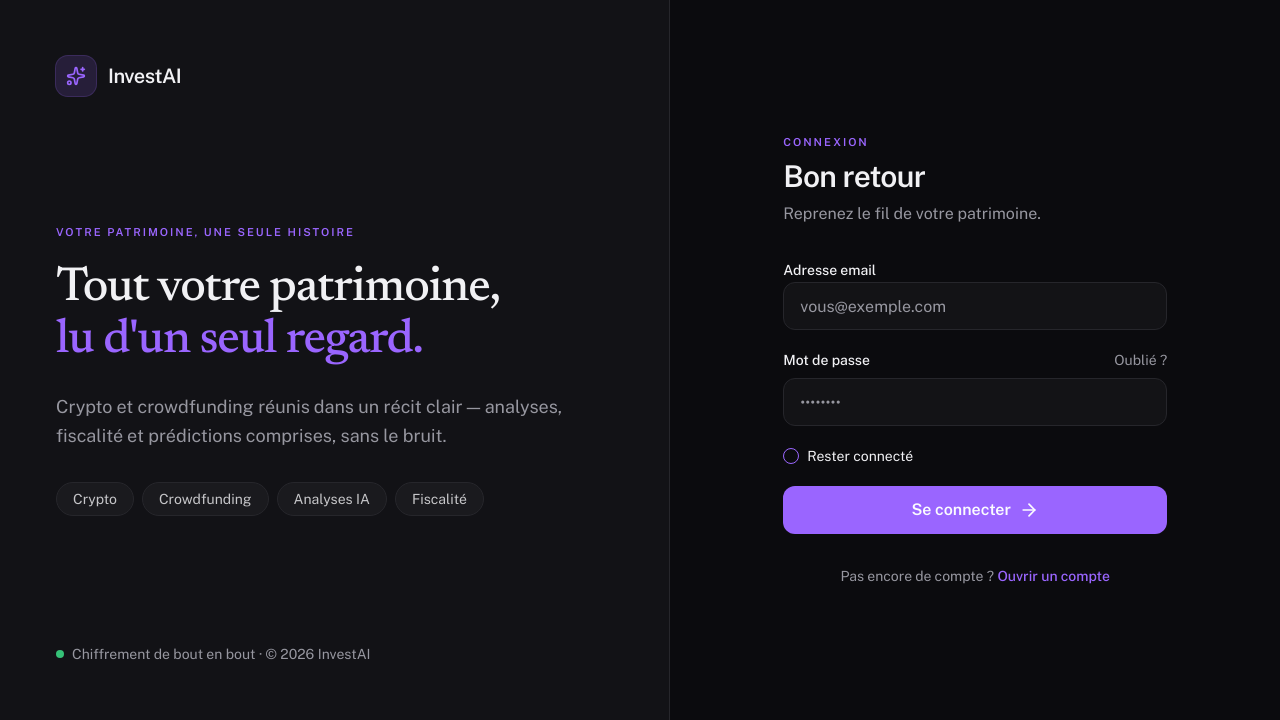
it: identity — défauts corrigés › un mot de passe refusé ne déclenche ni refresh ni déconnexion
Type "jeanne@example.com" into the field with id "email" at {"x": 975, "y": 306}, box x1=783 y1=282 x2=1167 y2=330
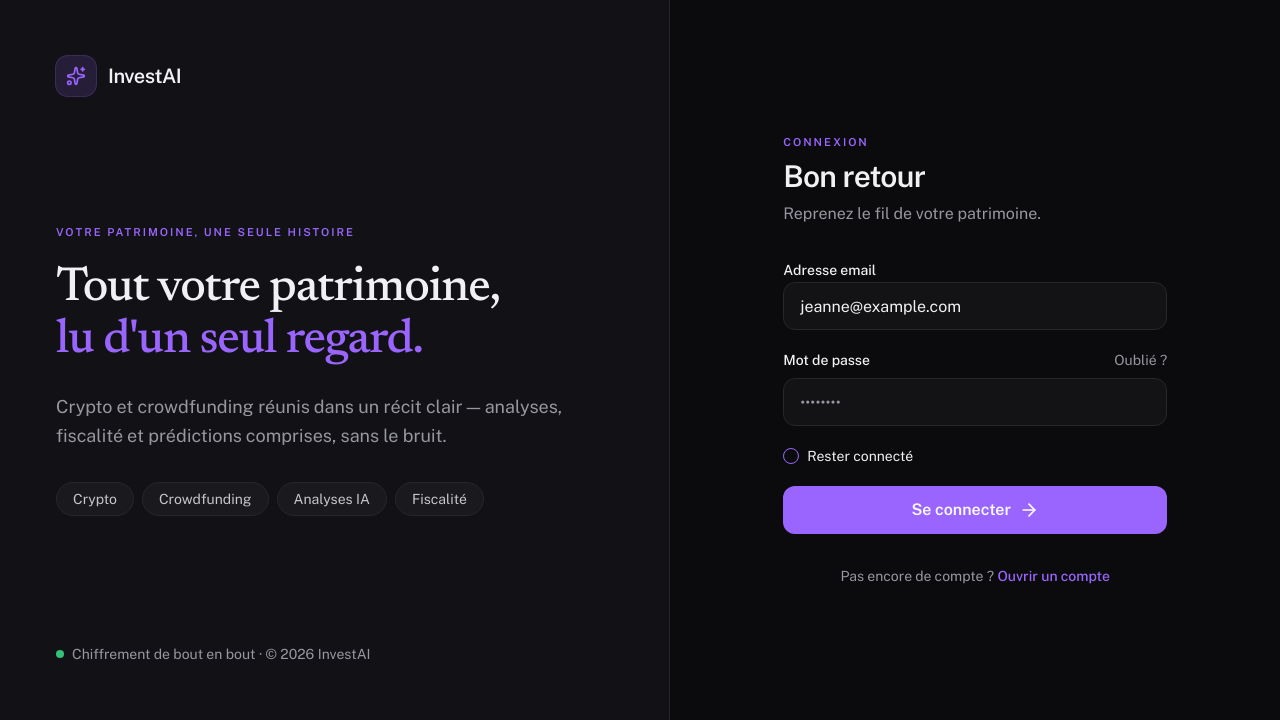
Type "Secret-42xyz" into the password field labelled "Mot de passe" at {"x": 975, "y": 402}, box x1=783 y1=378 x2=1167 y2=426
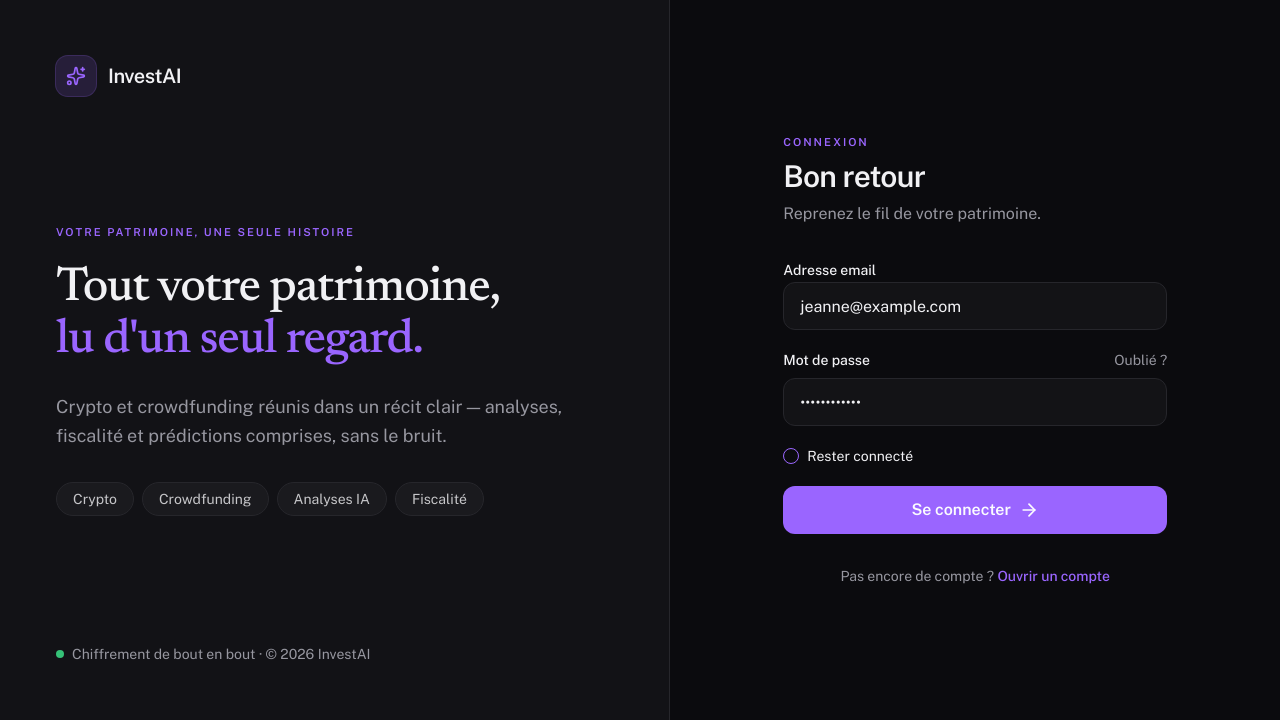
Click the submit button at {"x": 975, "y": 510}, box x1=783 y1=486 x2=1167 y2=534
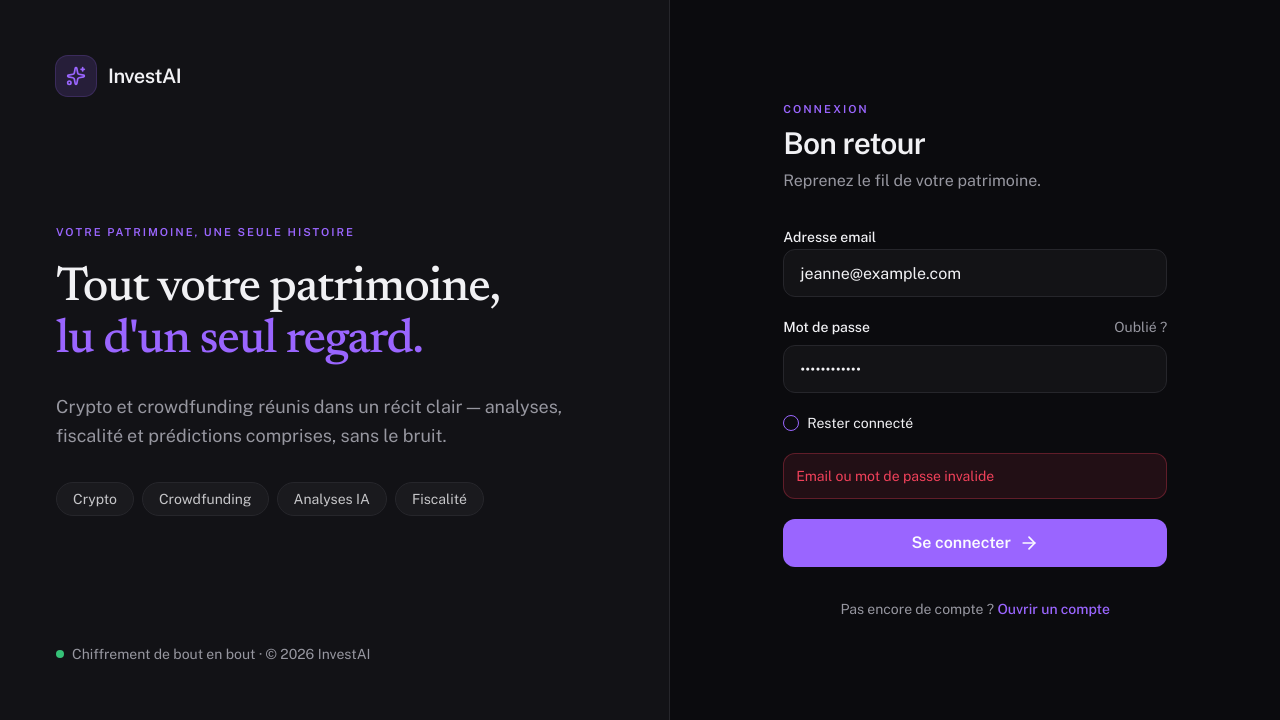
Result: the text "Email ou mot de passe invalide" is shown at x1=783 y1=453 x2=1167 y2=499
